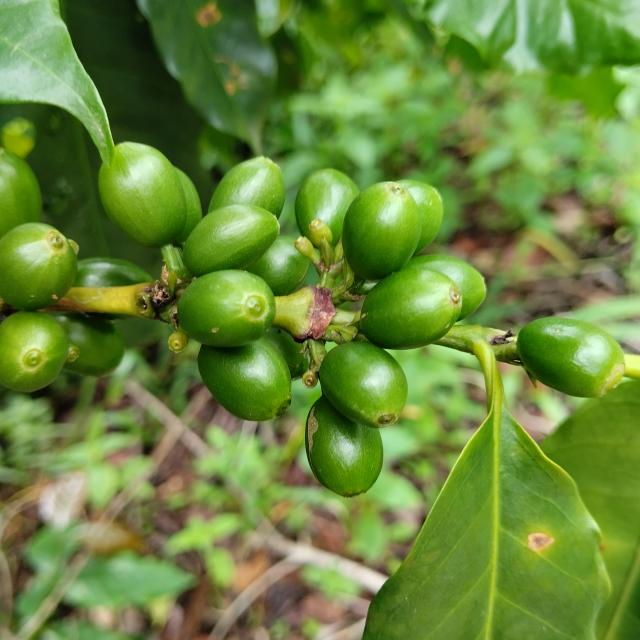green: (98, 141, 186, 248), (518, 317, 626, 398), (360, 266, 463, 350), (305, 395, 383, 498), (177, 269, 276, 348), (342, 181, 421, 280), (319, 341, 408, 428), (197, 339, 291, 421), (182, 204, 279, 276), (0, 222, 78, 311), (0, 311, 70, 392), (406, 254, 487, 321), (295, 168, 360, 246), (208, 155, 285, 217), (246, 235, 310, 296), (0, 147, 41, 238), (398, 179, 444, 254), (263, 328, 309, 379), (174, 167, 202, 245)
